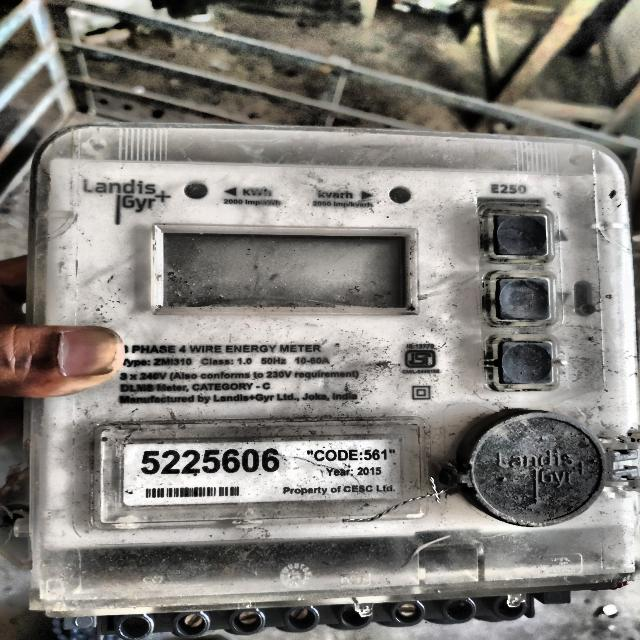Digital: (23, 130, 640, 636)
Reading: (166, 234, 411, 308)
Serial No.: (137, 445, 286, 476)
